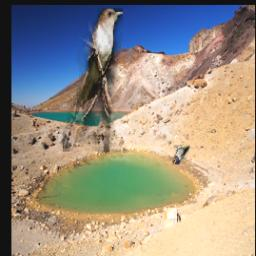Cuckoo: (64, 8, 124, 152)
Swallow: (173, 145, 191, 164)
